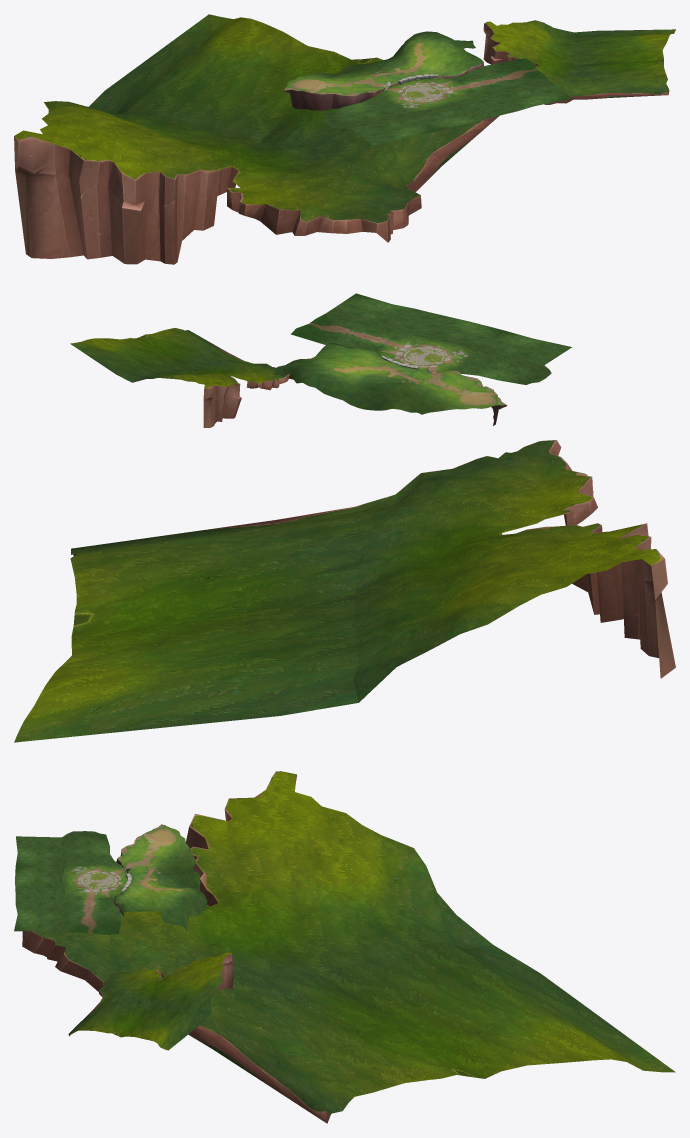
The model's file is DiXing.fbx.
3 renders of one model, top to bottom at view 1: azimuth 30°, elevation 25°; view 2: azimuth 150°, elevation 25°; view 3: azimuth 270°, elevation 25°, orthographic. The views are drawn at different scales.
Parts seen in each view (by area): view 1: ZhuCheng_DiXing_03 (1), ZhuCheng_DiXing_03, ZhuCheng_DiXing_01_02, ZhuCheng_DiXing_02_01, ZhuCheng_DiXing_02_02, ZhuCheng_DiXing_01_01; view 2: ZhuCheng_DiXing_03 (1), ZhuCheng_DiXing_01_02, ZhuCheng_DiXing_03, ZhuCheng_DiXing_02_01, ZhuCheng_DiXing_02_02, ZhuCheng_DiXing_01_01; view 3: ZhuCheng_DiXing_03 (1), ZhuCheng_DiXing_03, ZhuCheng_DiXing_01_02, ZhuCheng_DiXing_02_01, ZhuCheng_DiXing_02_02, ZhuCheng_DiXing_01_01.
Boxes of the visible parts, x1=… form: ZhuCheng_DiXing_03 (1): x1=14, y1=14, x2=499, y2=264; ZhuCheng_DiXing_03: x1=483, y1=20, x2=675, y2=104; ZhuCheng_DiXing_01_02: x1=322, y1=58, x2=571, y2=146; ZhuCheng_DiXing_02_01: x1=371, y1=31, x2=483, y2=90; ZhuCheng_DiXing_02_02: x1=283, y1=63, x2=398, y2=110; ZhuCheng_DiXing_01_01: x1=380, y1=77, x2=477, y2=113; ZhuCheng_DiXing_03 (1): x1=14, y1=440, x2=675, y2=742; ZhuCheng_DiXing_01_02: x1=291, y1=293, x2=572, y2=384; ZhuCheng_DiXing_03: x1=70, y1=328, x2=293, y2=427; ZhuCheng_DiXing_02_01: x1=274, y1=343, x2=437, y2=410; ZhuCheng_DiXing_02_02: x1=378, y1=369, x2=507, y2=425; ZhuCheng_DiXing_01_01: x1=374, y1=332, x2=477, y2=372; ZhuCheng_DiXing_03 (1): x1=22, y1=771, x2=675, y2=1123; ZhuCheng_DiXing_03: x1=68, y1=952, x2=233, y2=1050; ZhuCheng_DiXing_01_02: x1=14, y1=831, x2=122, y2=934; ZhuCheng_DiXing_02_01: x1=114, y1=866, x2=207, y2=930; ZhuCheng_DiXing_02_02: x1=116, y1=824, x2=200, y2=884; ZhuCheng_DiXing_01_01: x1=62, y1=863, x2=127, y2=899.
Bounding box in the file's own units: 272 × 71.69 × 264.
